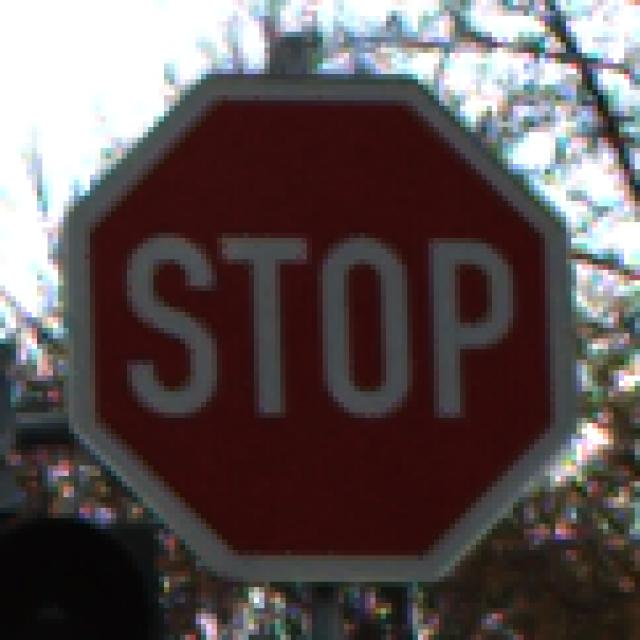STOP: (54, 59, 583, 583)
